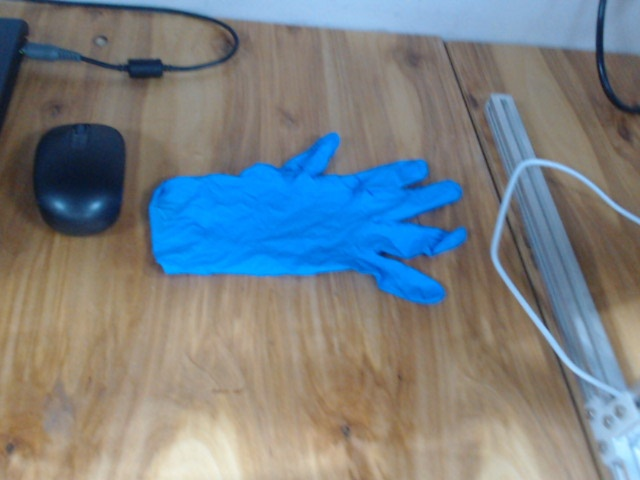medical_glove: (148, 132, 467, 305)
